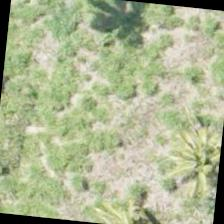Kelapa_Sawit: (148, 105, 223, 203)
